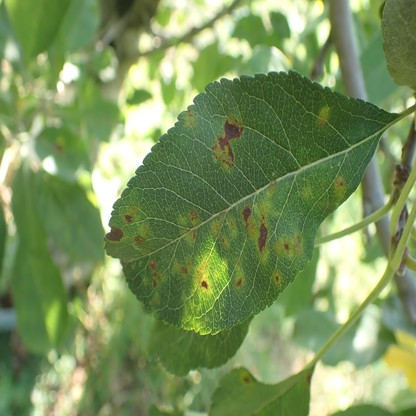scab: (106, 106, 347, 316), (241, 373, 254, 384)
